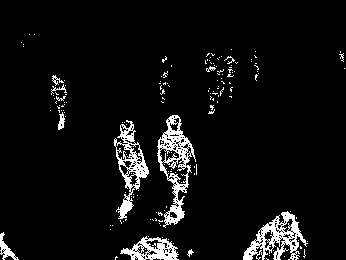person: (158, 113, 197, 226), (113, 118, 148, 222), (241, 209, 306, 260)
